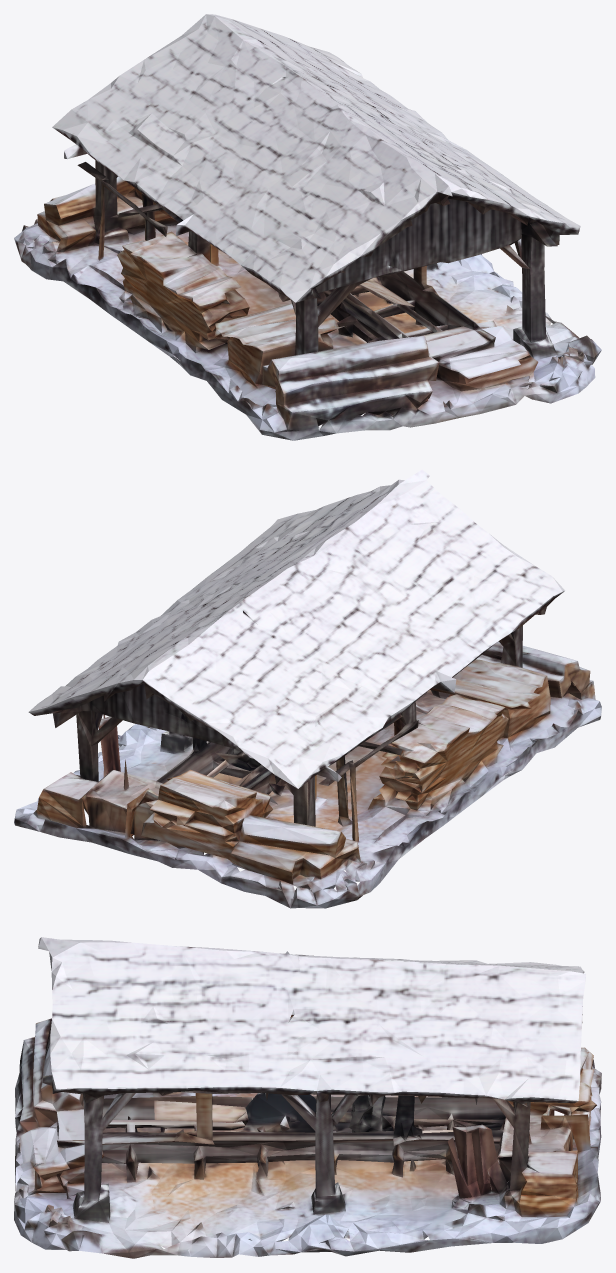
File: sawmill.glb
3 renders of one model, top to bottom at view 1: azimuth 30°, elevation 25°; view 2: azimuth 150°, elevation 25°; view 3: azimuth 270°, elevation 25°, orthographic. The views are drawn at different scales.
Visible parts, largest first — view 1: geometry_0; view 2: geometry_0; view 3: geometry_0.
Part boxes in pixels (left/top/right/bottom): geometry_0: left=14, top=14, right=601, bottom=440; geometry_0: left=14, top=469, right=601, bottom=908; geometry_0: left=14, top=937, right=601, bottom=1258.
Bounding box in the file's own units: 0.7282 × 0.4472 × 1.
Materials: 1 (1 with a texture image).
